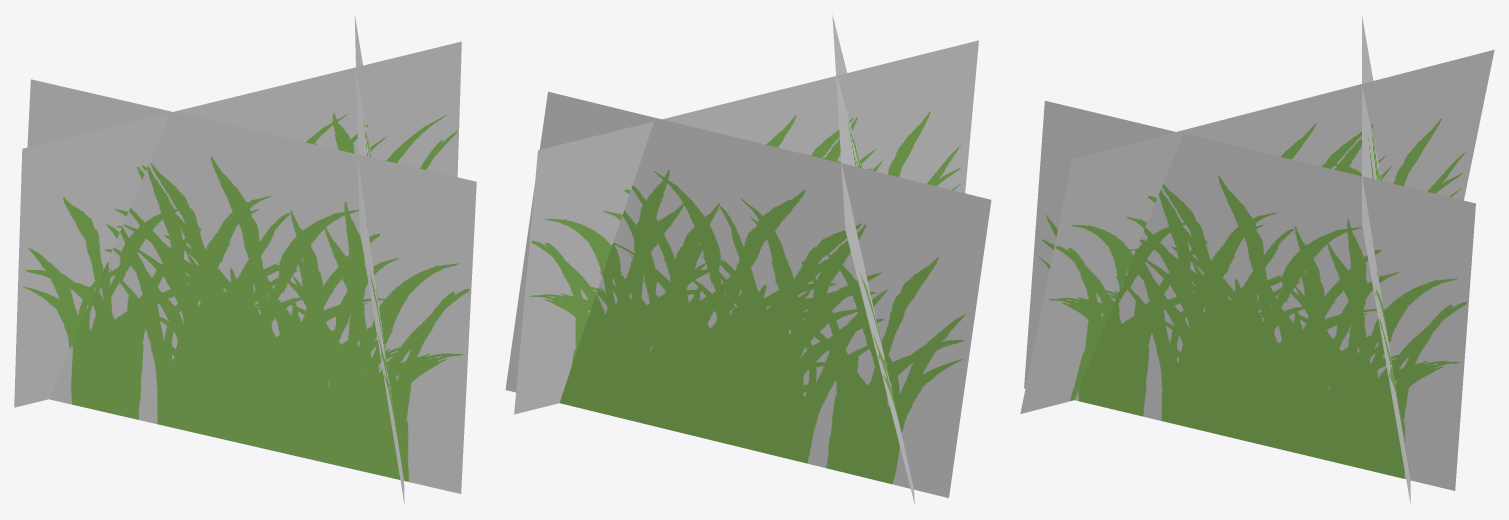
The model's file is Grass.fbx.
3 renders of one model, left to right at view 1: azimuth 30°, elevation 25°; view 2: azimuth 150°, elevation 25°; view 3: azimuth 270°, elevation 25°, orthographic. The views are drawn at different scales.
Parts seen in each view (by area): view 1: Grass; view 2: Grass; view 3: Grass.
Part boxes in pixels (x1,y1,x2,y2): Grass: (14,15,476,504); Grass: (505,15,991,504); Grass: (1020,16,1494,503).
Size of the model in its own units: 208 by 123 by 192.
Materials: 1 (1 with a texture image).
